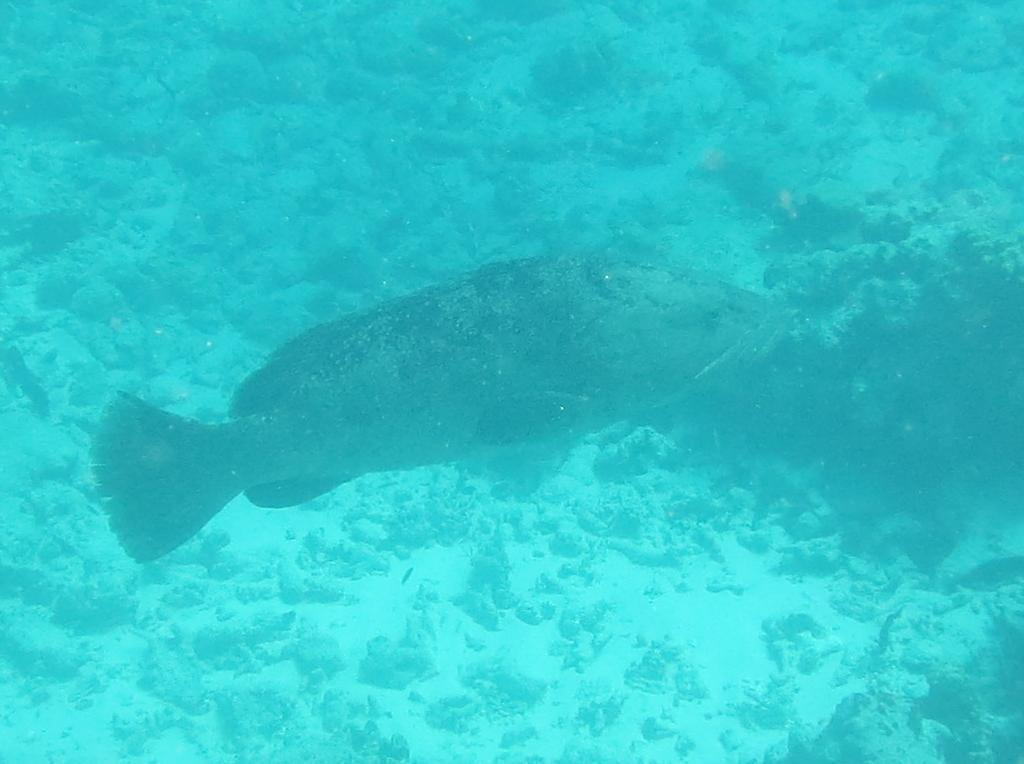Fish: (44, 240, 832, 572)
